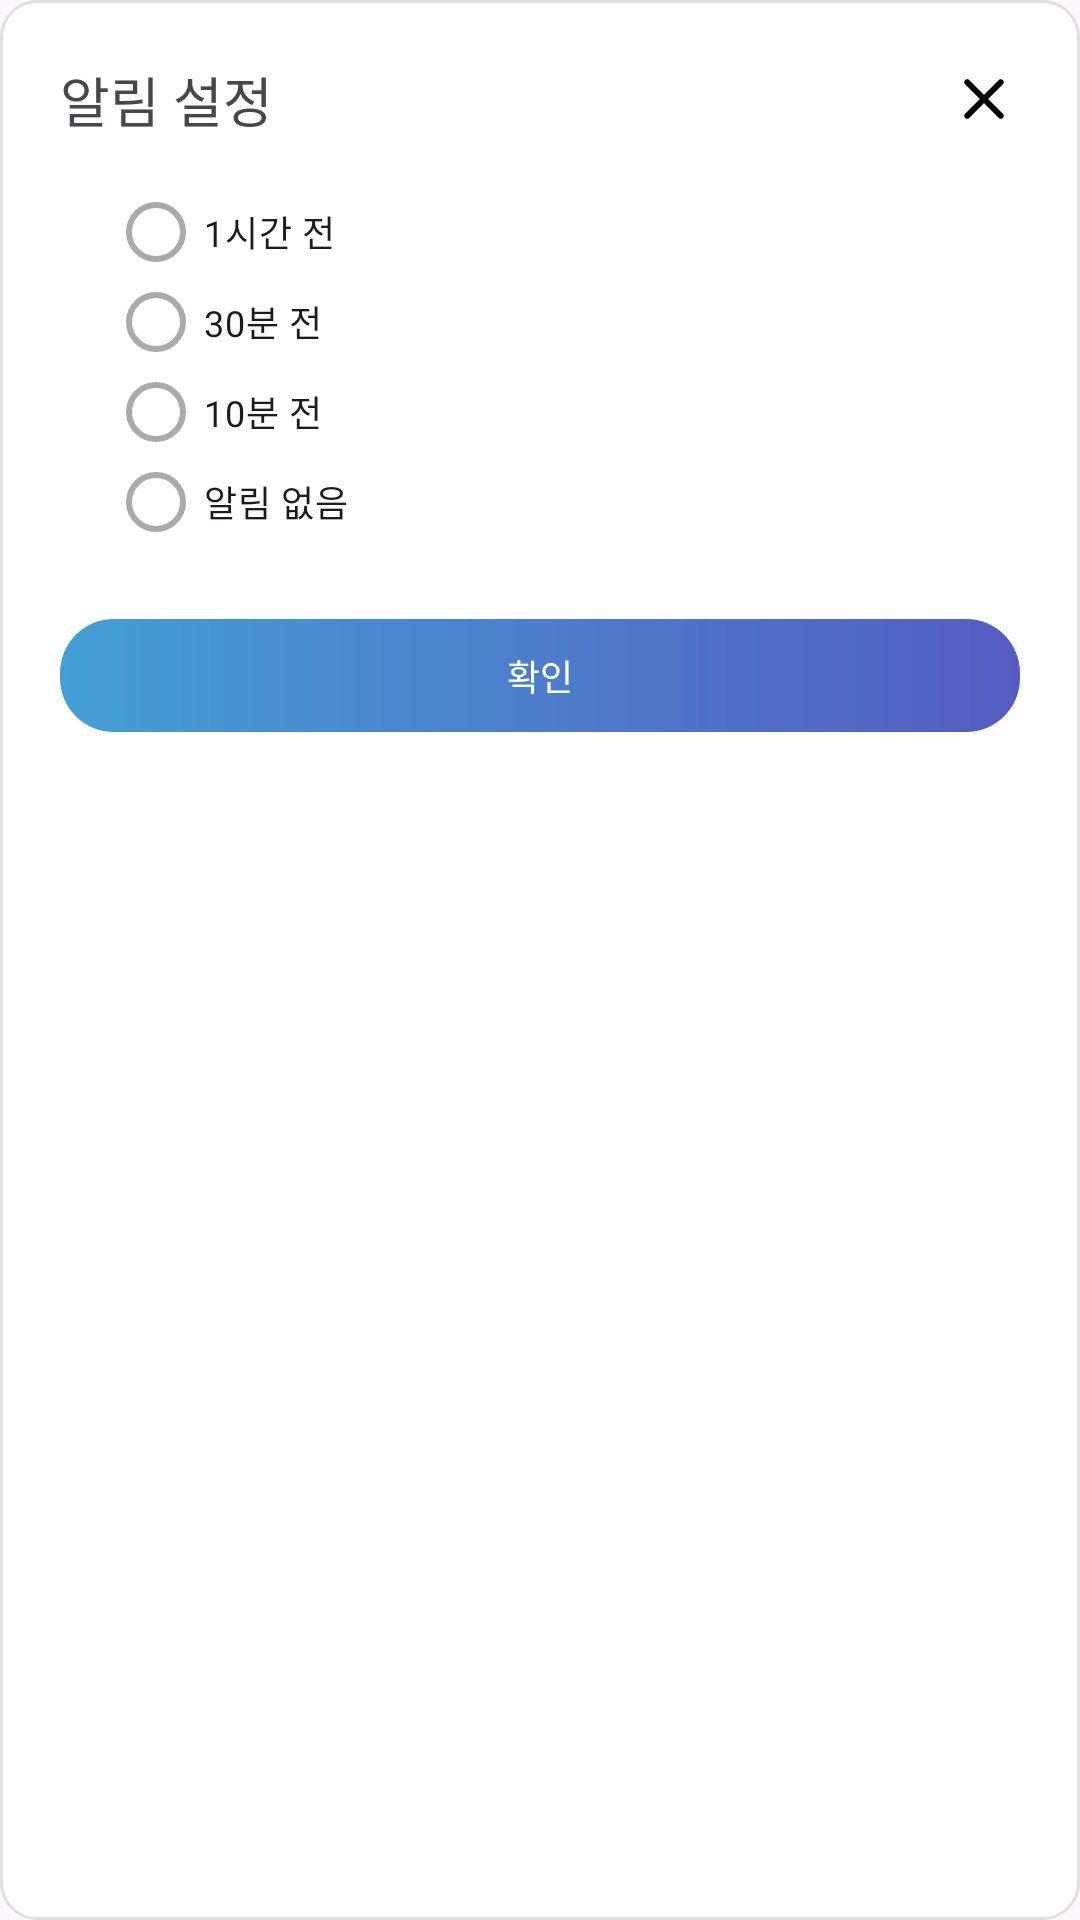

Where icons sit on this 1080px×1920px app screen, as rect(x1, y1, x2, y2):
닫기: rect(964, 79, 1004, 119)
